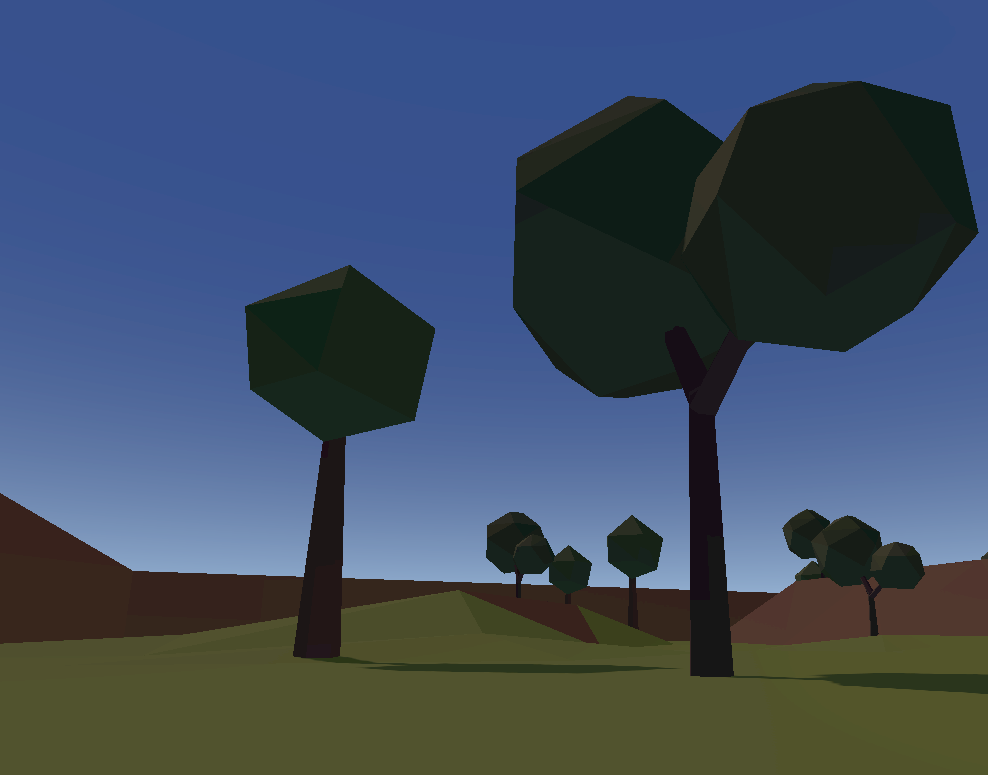tree: (511, 81, 980, 668), (238, 265, 439, 662), (810, 515, 933, 638), (480, 507, 554, 603), (606, 515, 663, 635), (546, 539, 595, 609)
